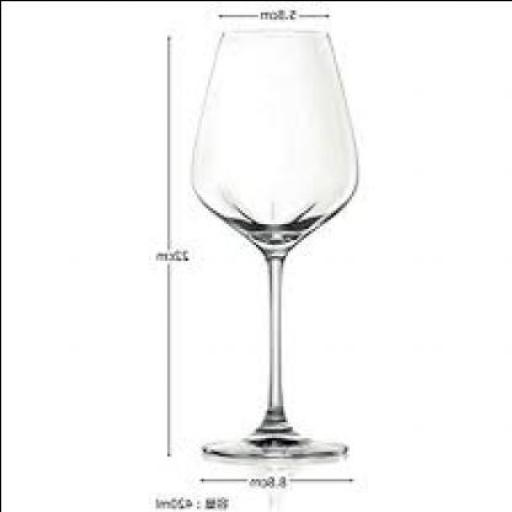glass: (191, 27, 359, 453)
